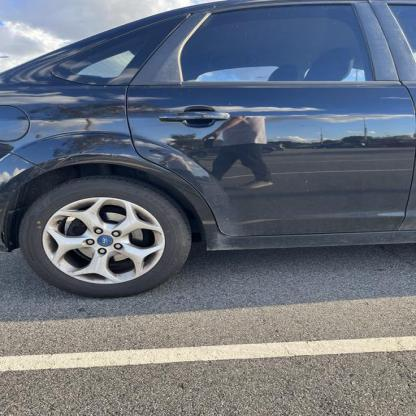Tire: (19, 175, 193, 300)
